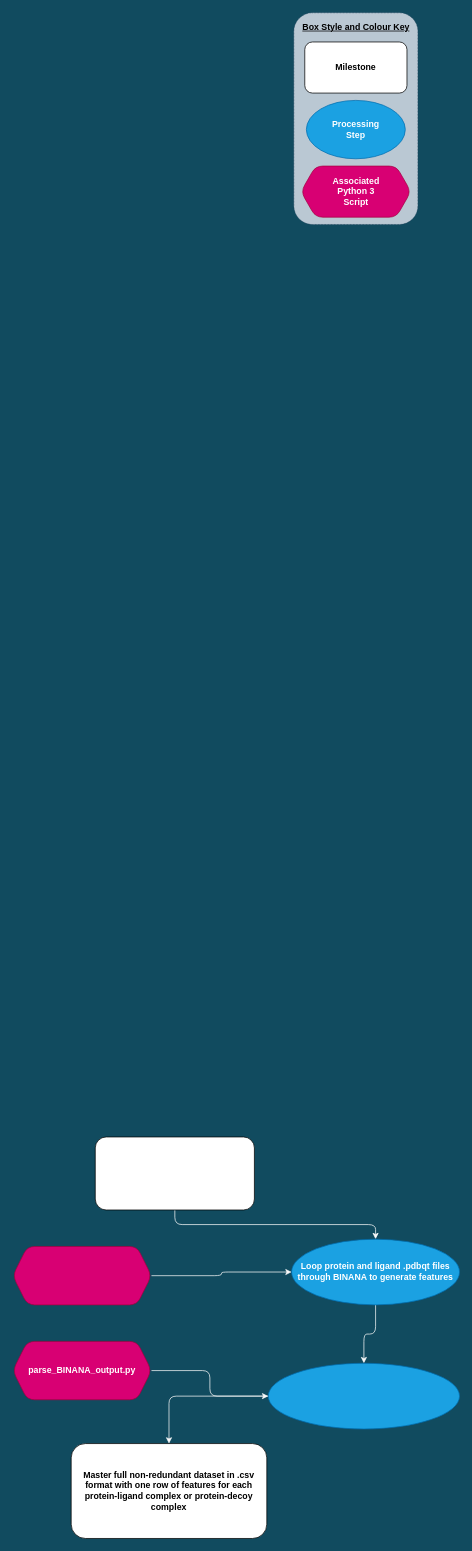
The diagram is 472 pixels wide and 1551 high, and some of its shapes have lost their labels. The shapes that lost their labels are listed below. From the top down, each one's centre as x and y in pixels, then its label:
(174,1173): Full non-redundant dataset in .pdbqt format with docked decoy .pdbqts
(81,1275): batch_BINANA.py
(364,1396): Parse output of BINANA output.txt files into .csv format
